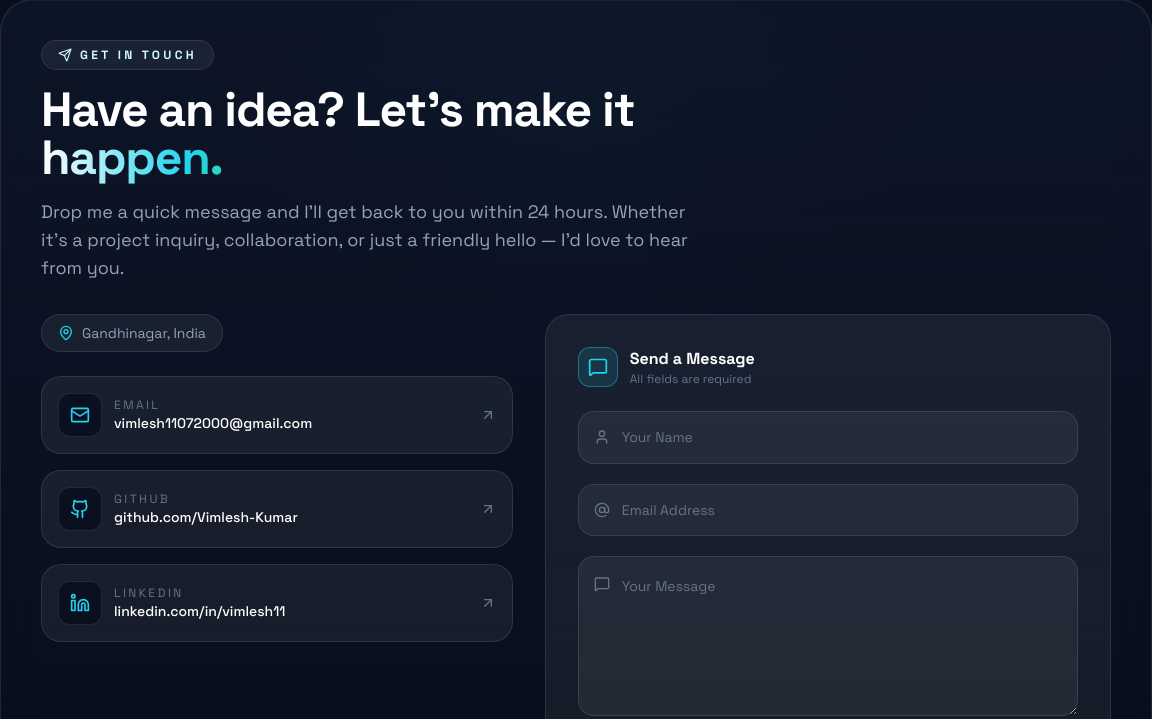
Test: Contact Component › enables submit button correctly
Type "John Doe" into the field labelled "Your Name" at (828, 437), box 578,411 -> 1078,464
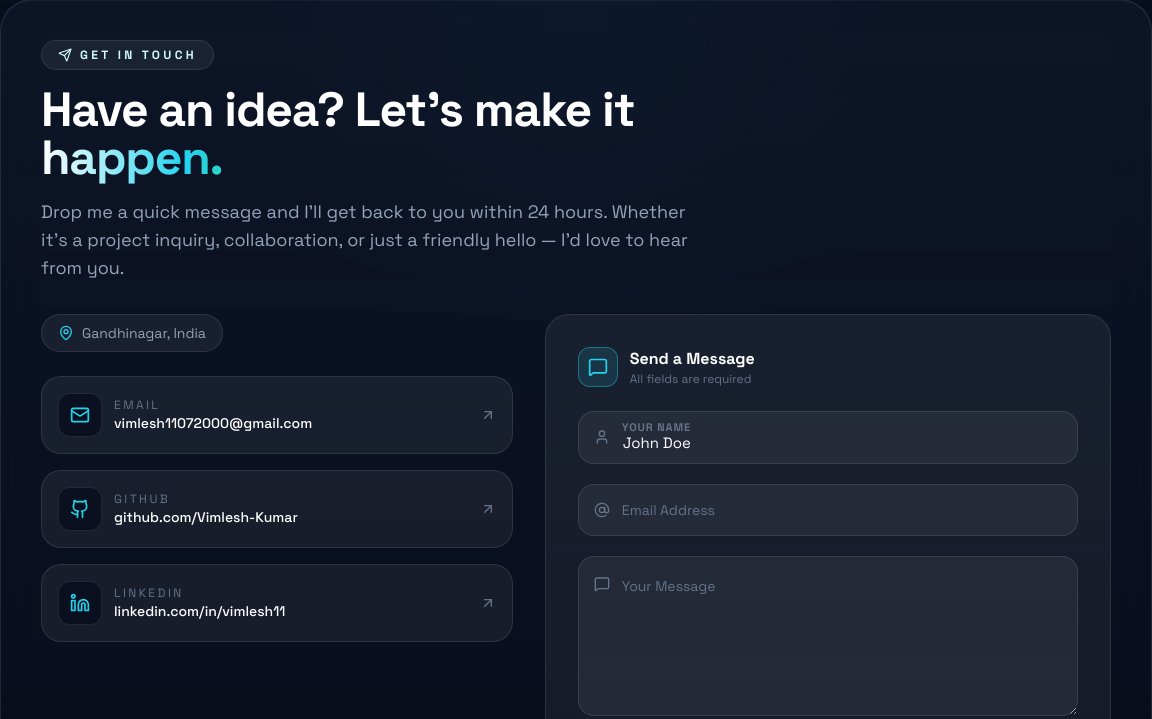
Type "john@example.com" into the field labelled "Email Address" at (828, 510), box 578,484 -> 1078,536
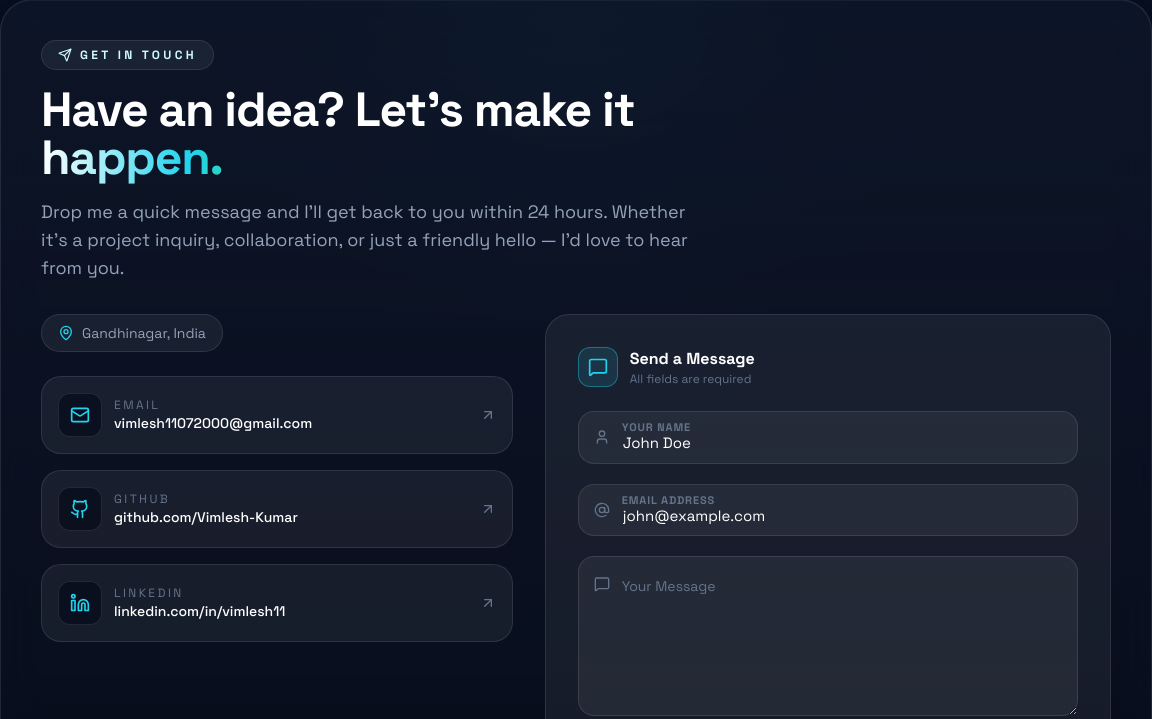
Type "This is a valid message of sufficient length." into the text box labelled "Your Message" at (828, 636), box 578,556 -> 1078,716
(page scrolled)
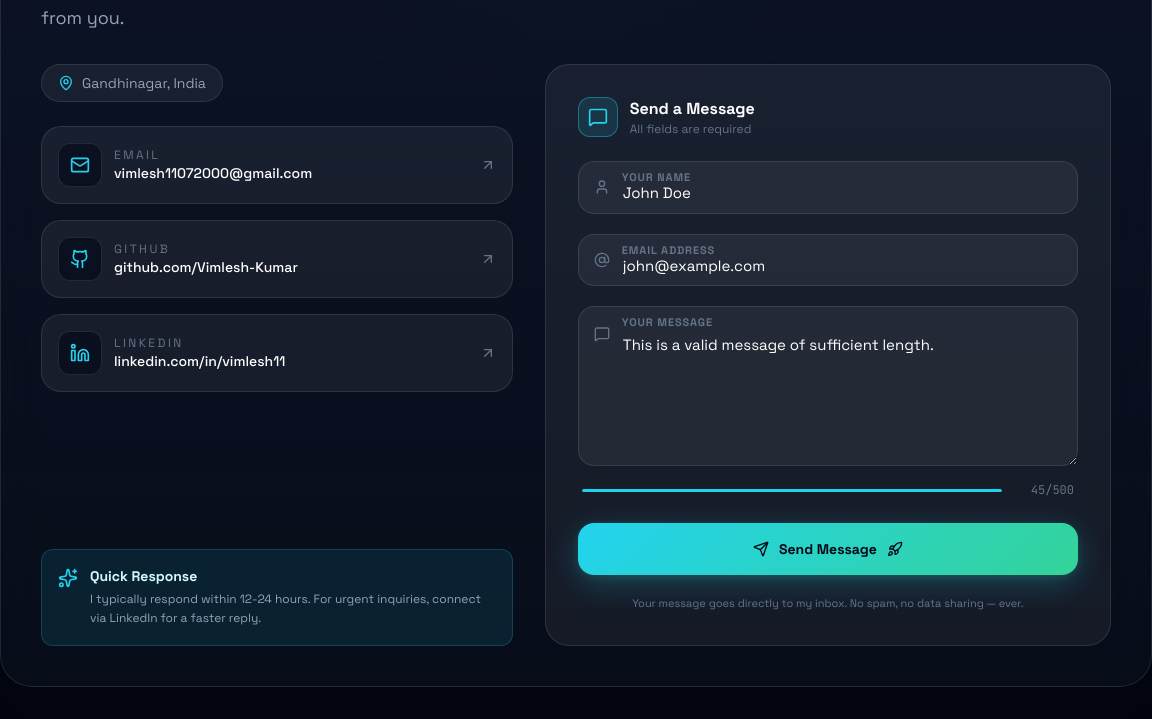
Check: the button "Send Message" is enabled, box 578,523 -> 1078,575
